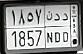1: (10, 8, 17, 48)
5: (27, 12, 35, 47)
7: (35, 8, 43, 47)
8: (18, 9, 26, 48)
D: (54, 13, 61, 43), (62, 13, 69, 43)
N: (46, 11, 53, 44)
